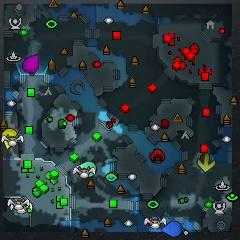p1: (162, 221, 182, 236)
p2: (76, 161, 96, 177)
p3: (23, 54, 39, 72)
p4: (2, 128, 18, 150)
x2: (197, 153, 215, 172)
